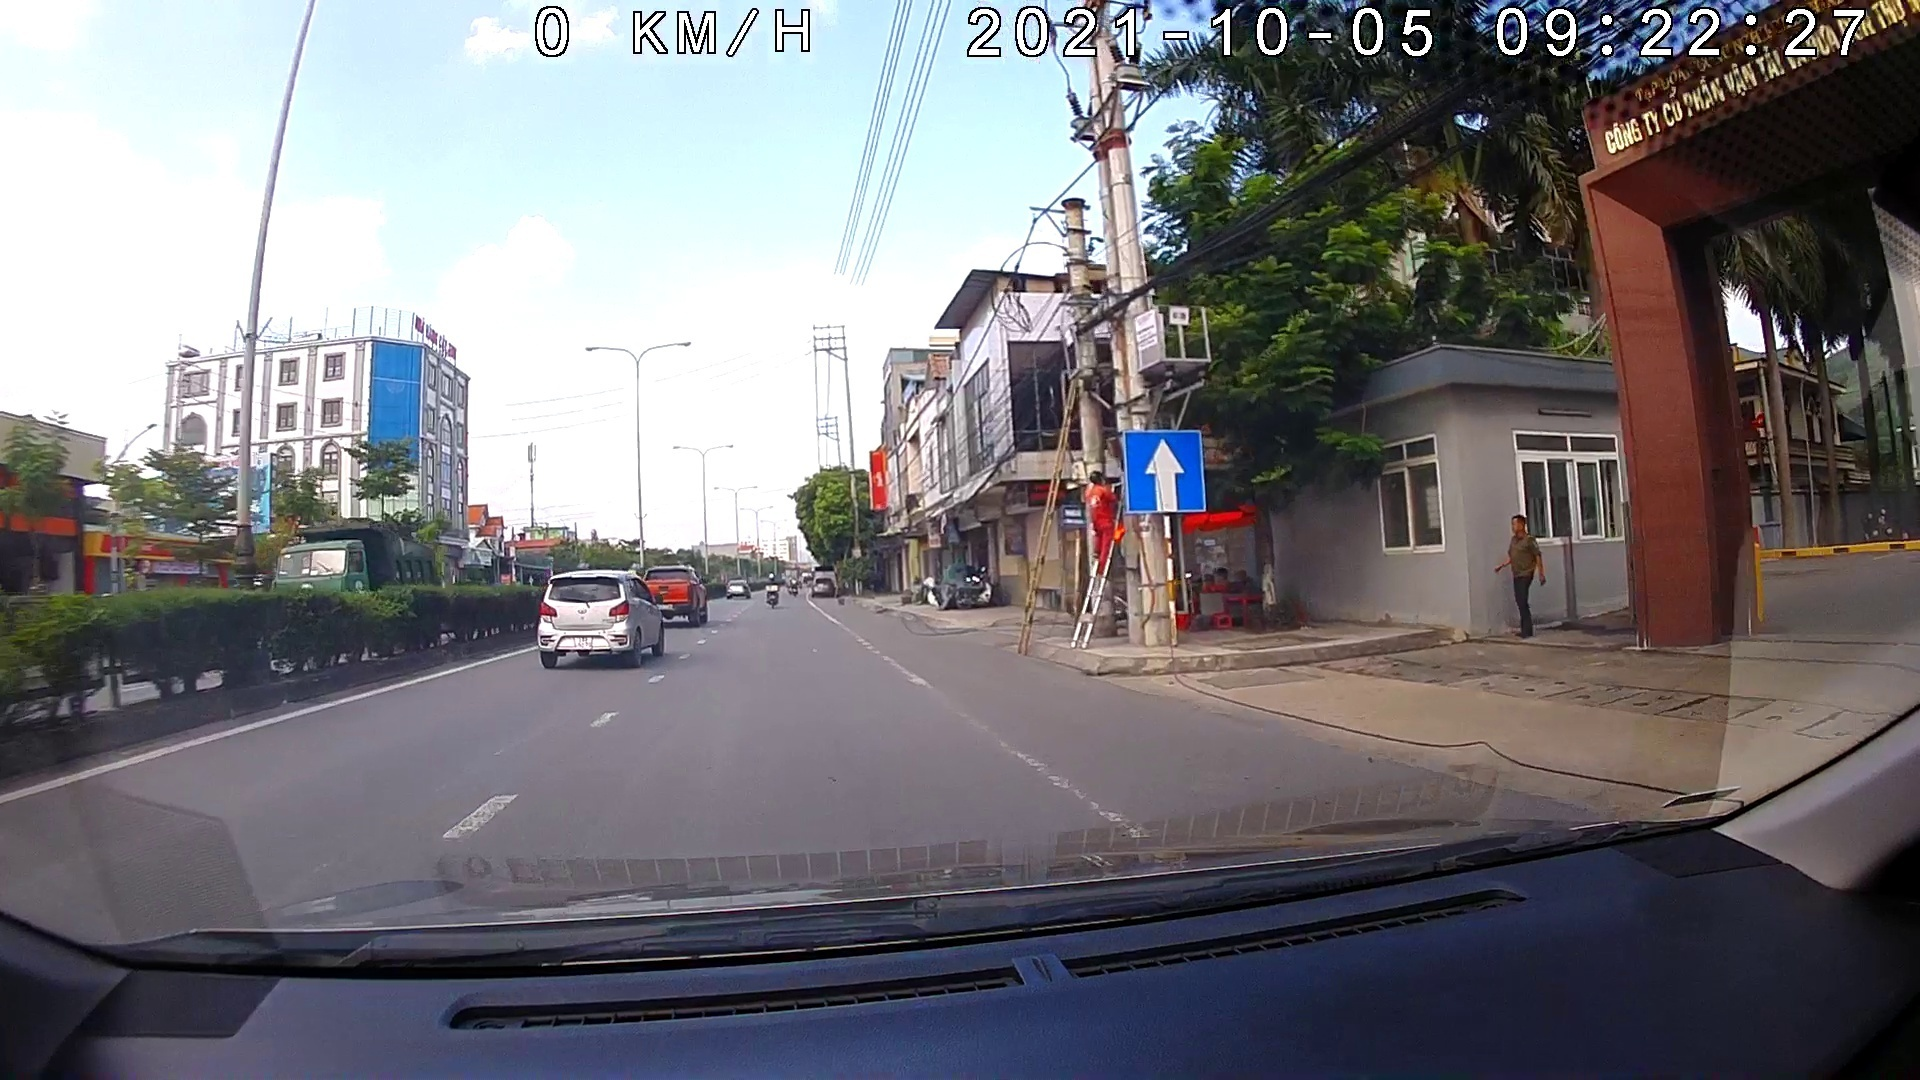Bien khac: (1122, 427, 1207, 516)
